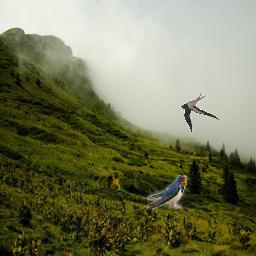Swallow: (180, 93, 219, 133), (147, 175, 187, 209)
